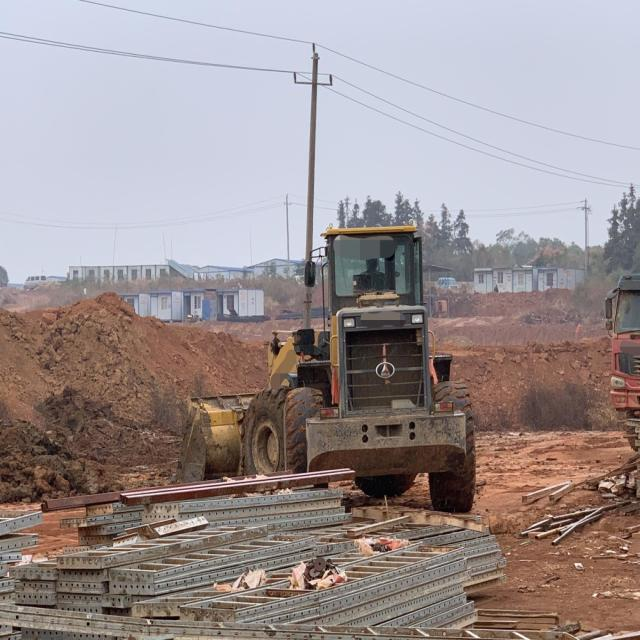machinery: (170, 217, 476, 512)
truck: (605, 273, 639, 451)
